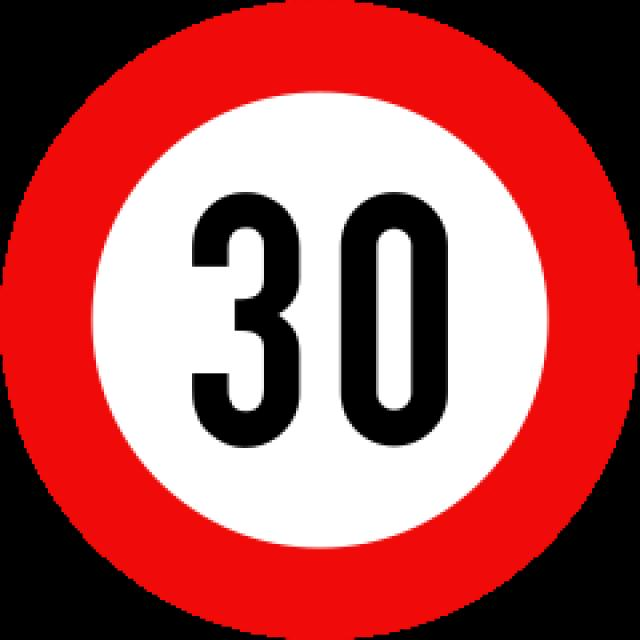Speed Limit -30-: (154, 181, 488, 470)
